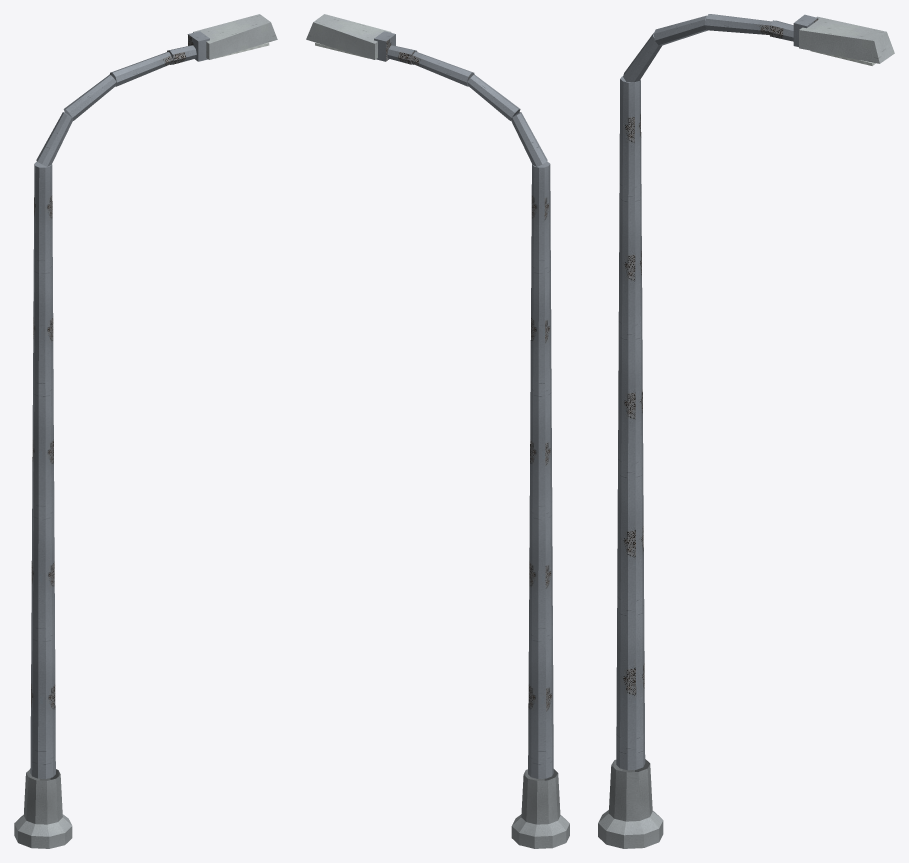
File: streetlight_v4.glb
3 renders of one model, left to right at view 1: azimuth 30°, elevation 25°; view 2: azimuth 150°, elevation 25°; view 3: azimuth 330°, elevation 25°, orthographic. The views are drawn at different scales.
Visible parts, largest first — view 1: Variant_streetlight_4; view 2: Variant_streetlight_4; view 3: Variant_streetlight_4.
Boxes of the visible parts, left/top/right/bottom form: Variant_streetlight_4: left=14, top=14, right=277, bottom=848; Variant_streetlight_4: left=306, top=14, right=569, bottom=848; Variant_streetlight_4: left=598, top=14, right=894, bottom=848.
Size of the model in its own units: 2.6 by 7.5 by 0.4945.
4 materials, 4 textured.
